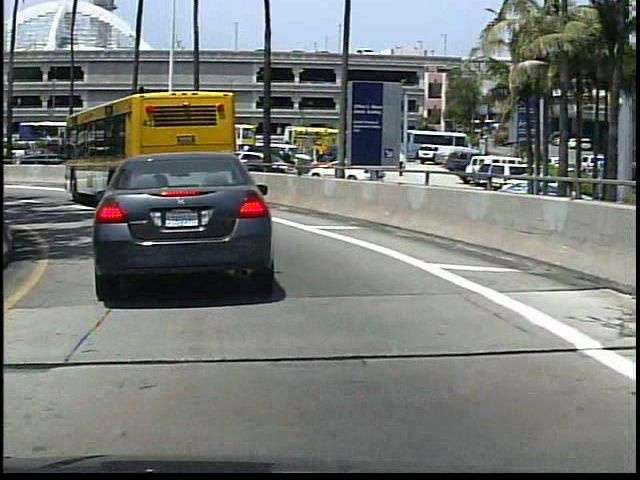person: (278, 145, 295, 179), (391, 149, 407, 180)
